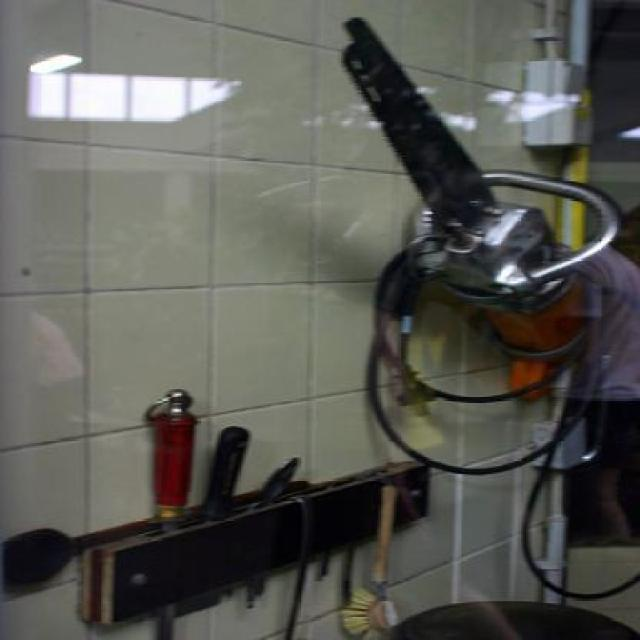Chainsaw: (337, 16, 625, 367)
